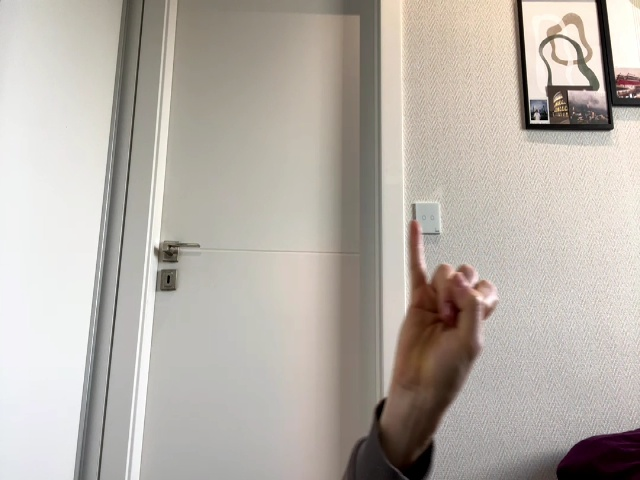I: (395, 221, 499, 405)
